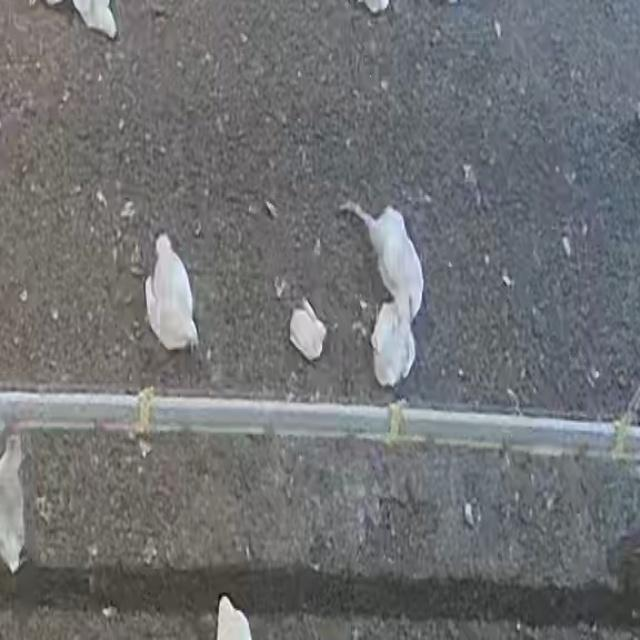chicken: (342, 192, 428, 314), (144, 225, 204, 352), (374, 298, 421, 386)
